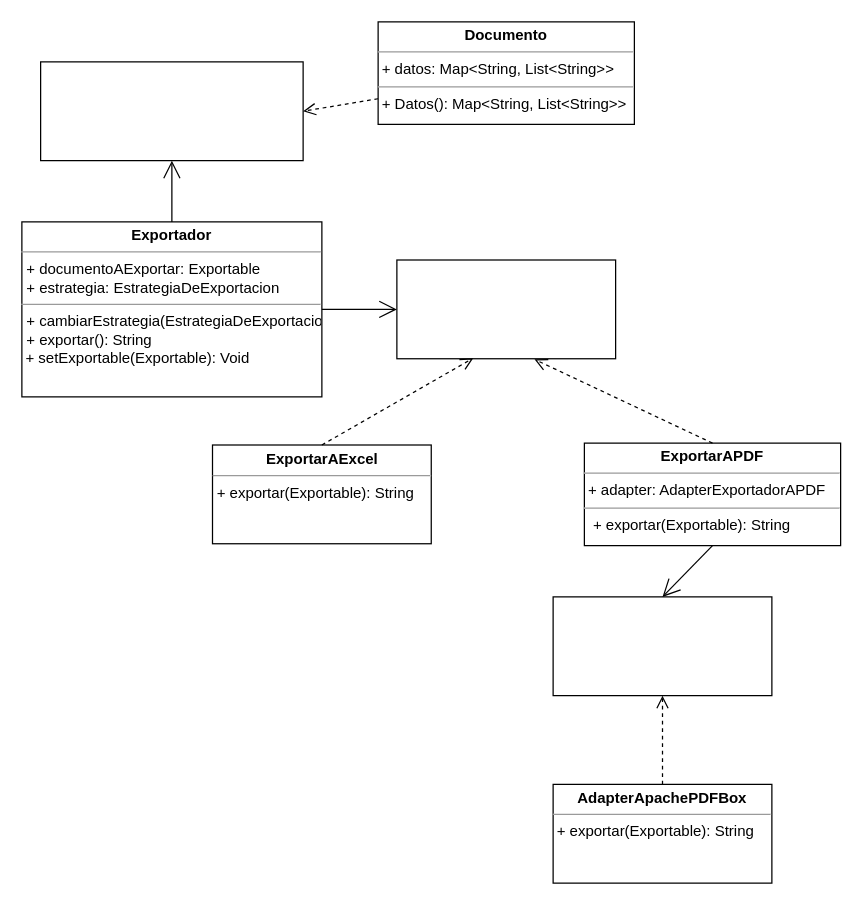
This 863x905 diagram has some shape labels left out. The shapes that lost their labels are listed below. From the top down, each one's centre as x and y in pixels, then its label:
At (x=171, y=111): "<<Interface>> Exportador + Datos(): Map<String, List<String>>".
At (x=506, y=309): "<<Interface>> EstrategiaDeExportacion + exportar(Exportable): String".
At (x=662, y=646): "<<Interface>> AdapterExportadorAPDF + exportar(Exportable): String".
